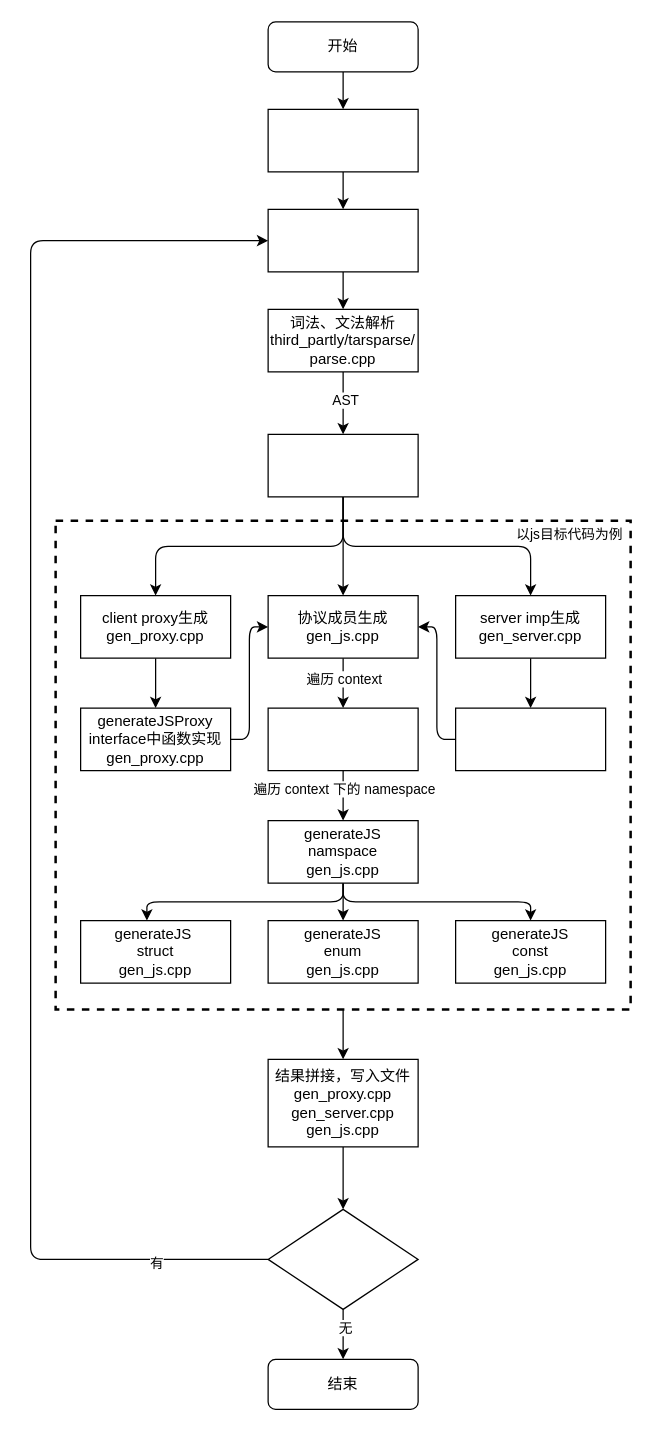
Some shapes in this 654 by 1431 pixel diagram are drawn without their labels. Here are the shapes that lost their labels. From the top down, the box of each, then its label:
(267, 108, 418, 172): 参数读取 main.cpp
(267, 208, 418, 272): 目标代码生成 src/code_generator.cpp
(267, 433, 418, 497): 目标代码选择： server/client、js/ts src/code_generator.cpp
(267, 707, 418, 771): generateJS context gen_js.cpp
(454, 707, 606, 771): generateJSServer interface中imp实现 gen_server.cpp
(267, 1208, 418, 1309): 依赖文件递归 转换？
